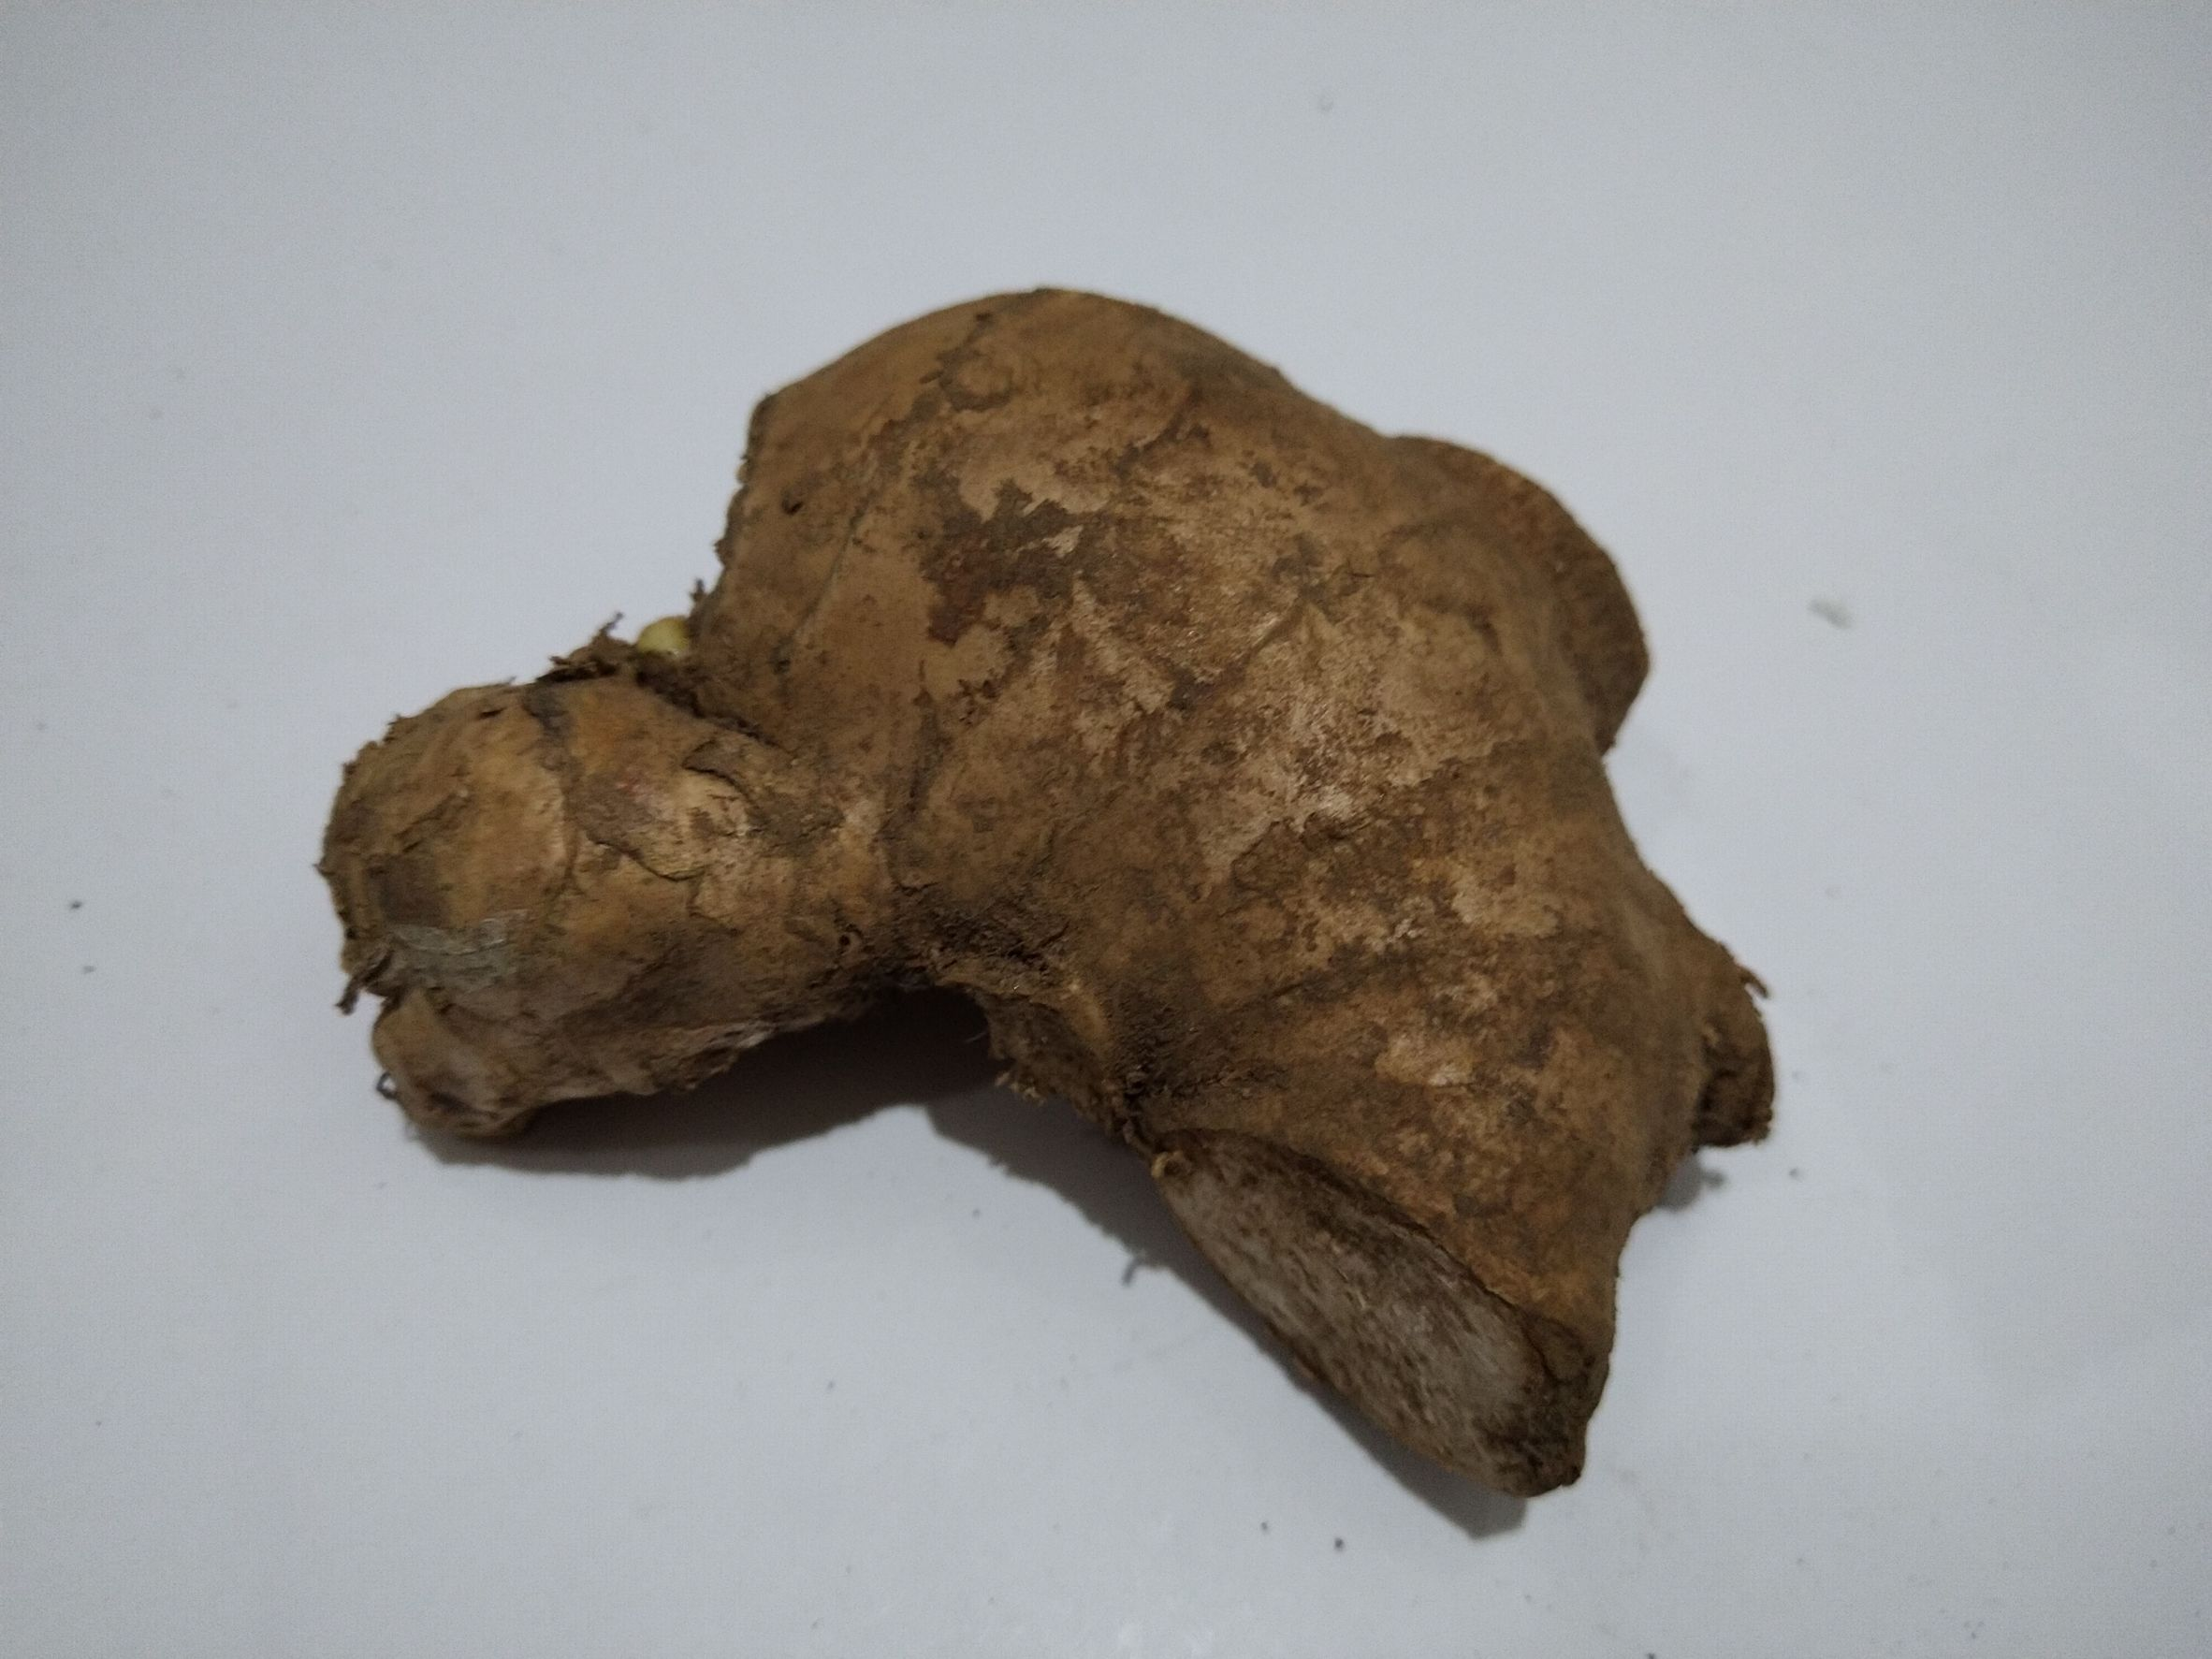Jahe: (331, 300, 1794, 1565)
